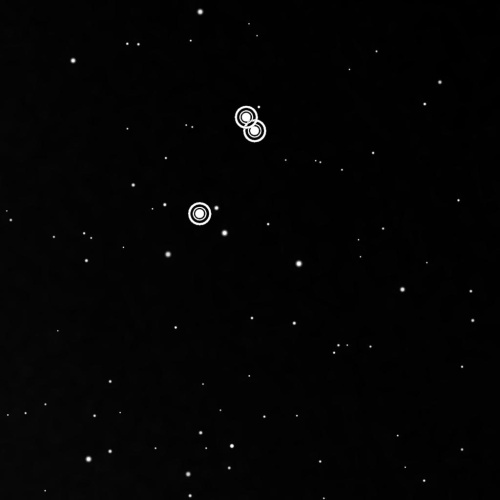canis_minor: (183, 99, 272, 234)
